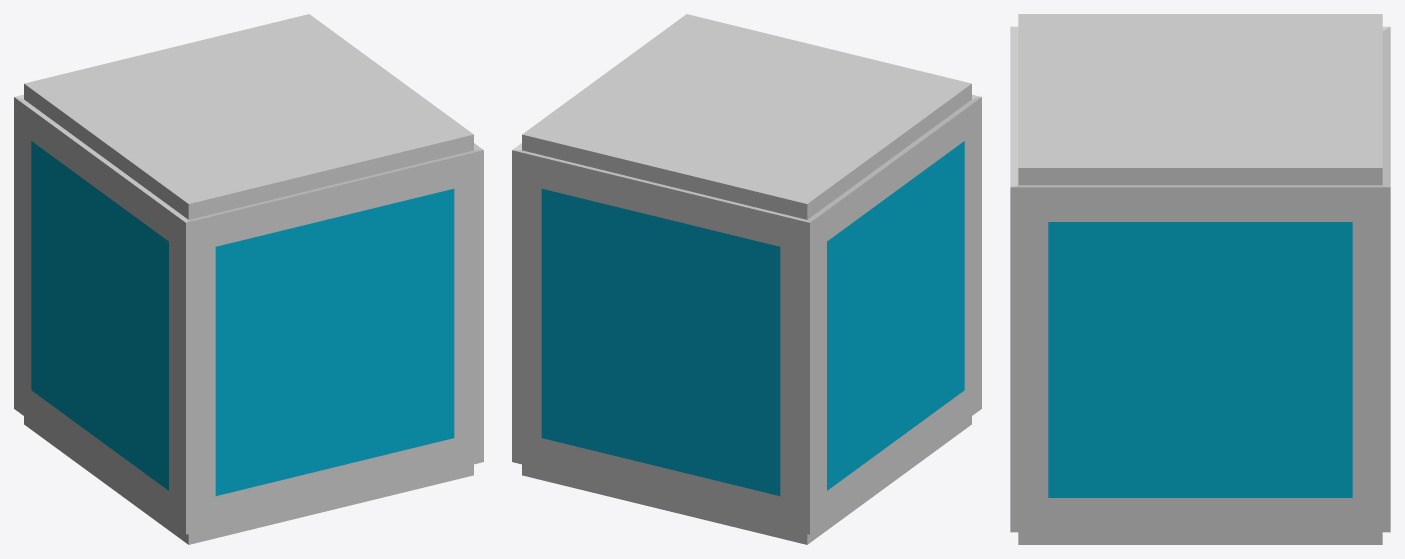
3 renders of one model, left to right at view 1: azimuth 30°, elevation 25°; view 2: azimuth 150°, elevation 25°; view 3: azimuth 270°, elevation 25°, orthographic. The views are drawn at different scales.
Visible parts, largest first — view 1: Cube; view 2: Cube; view 3: Cube.
Part boxes in pixels (x1,y1,x2,y2): Cube: (14, 14, 483, 544); Cube: (512, 14, 981, 544); Cube: (1010, 14, 1390, 544).
Size of the model in its own units: 66.29 by 66.29 by 72.46.
